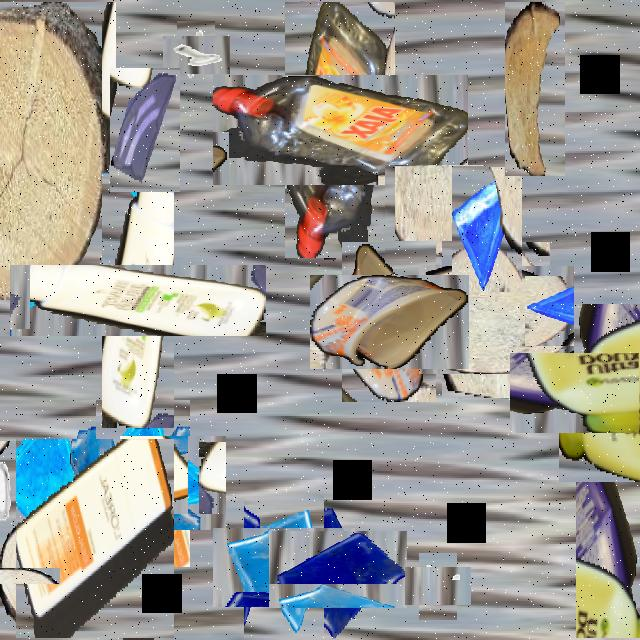glass: (78, 418, 208, 549), (228, 512, 339, 622), (284, 515, 392, 623), (452, 167, 522, 292), (110, 68, 180, 192), (0, 33, 67, 133), (60, 427, 120, 533)
metal: (4, 177, 84, 257), (412, 560, 464, 613), (170, 29, 222, 81), (0, 441, 18, 540)
plastic: (248, 38, 432, 222), (16, 439, 174, 638), (56, 218, 220, 382), (576, 386, 640, 638), (326, 258, 452, 386), (534, 328, 640, 457)
wood: (0, 2, 116, 300), (430, 254, 562, 386), (505, 2, 565, 176), (385, 166, 485, 262), (0, 546, 38, 605)
